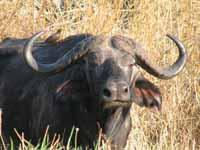Buffalo: (13, 20, 196, 150)
